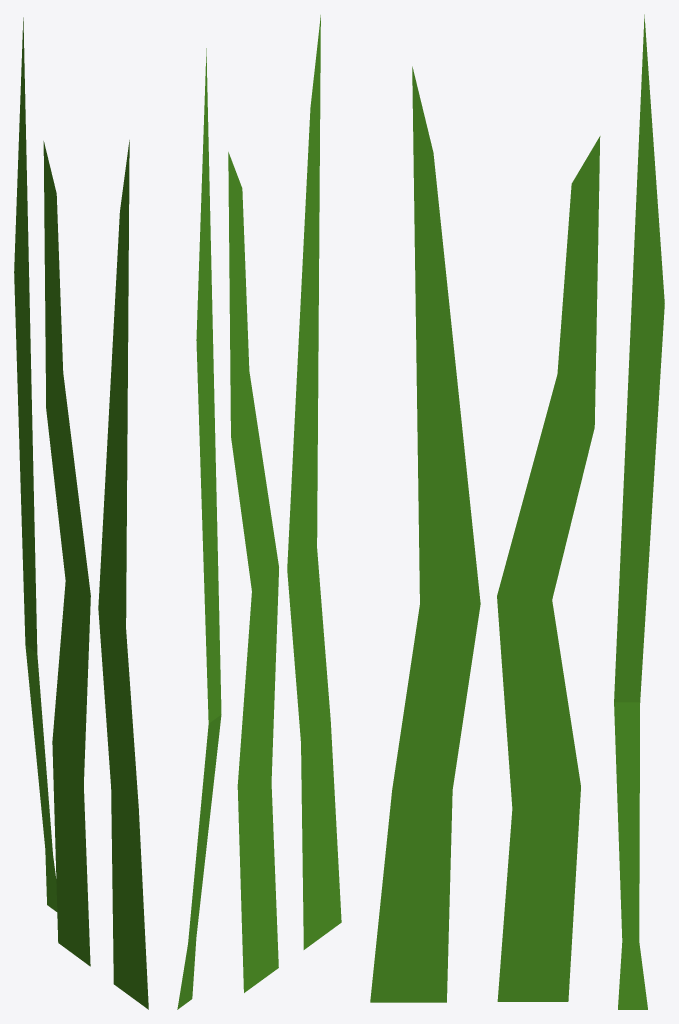
Rendered from grass.fbx.
3 renders of one model, left to right at view 1: azimuth 30°, elevation 25°; view 2: azimuth 150°, elevation 25°; view 3: azimuth 270°, elevation 25°, orthographic. The views are drawn at different scales.
Visible parts, largest first — view 1: Plane; view 2: Plane; view 3: Plane.
Part boxes in pixels (box(x1,y1,x2,y2)): Plane: box(14, 17, 148, 1009); Plane: box(177, 15, 341, 1009); Plane: box(370, 14, 664, 1009).
Size of the model in its own units: 3.27 by 112 by 30.14.
